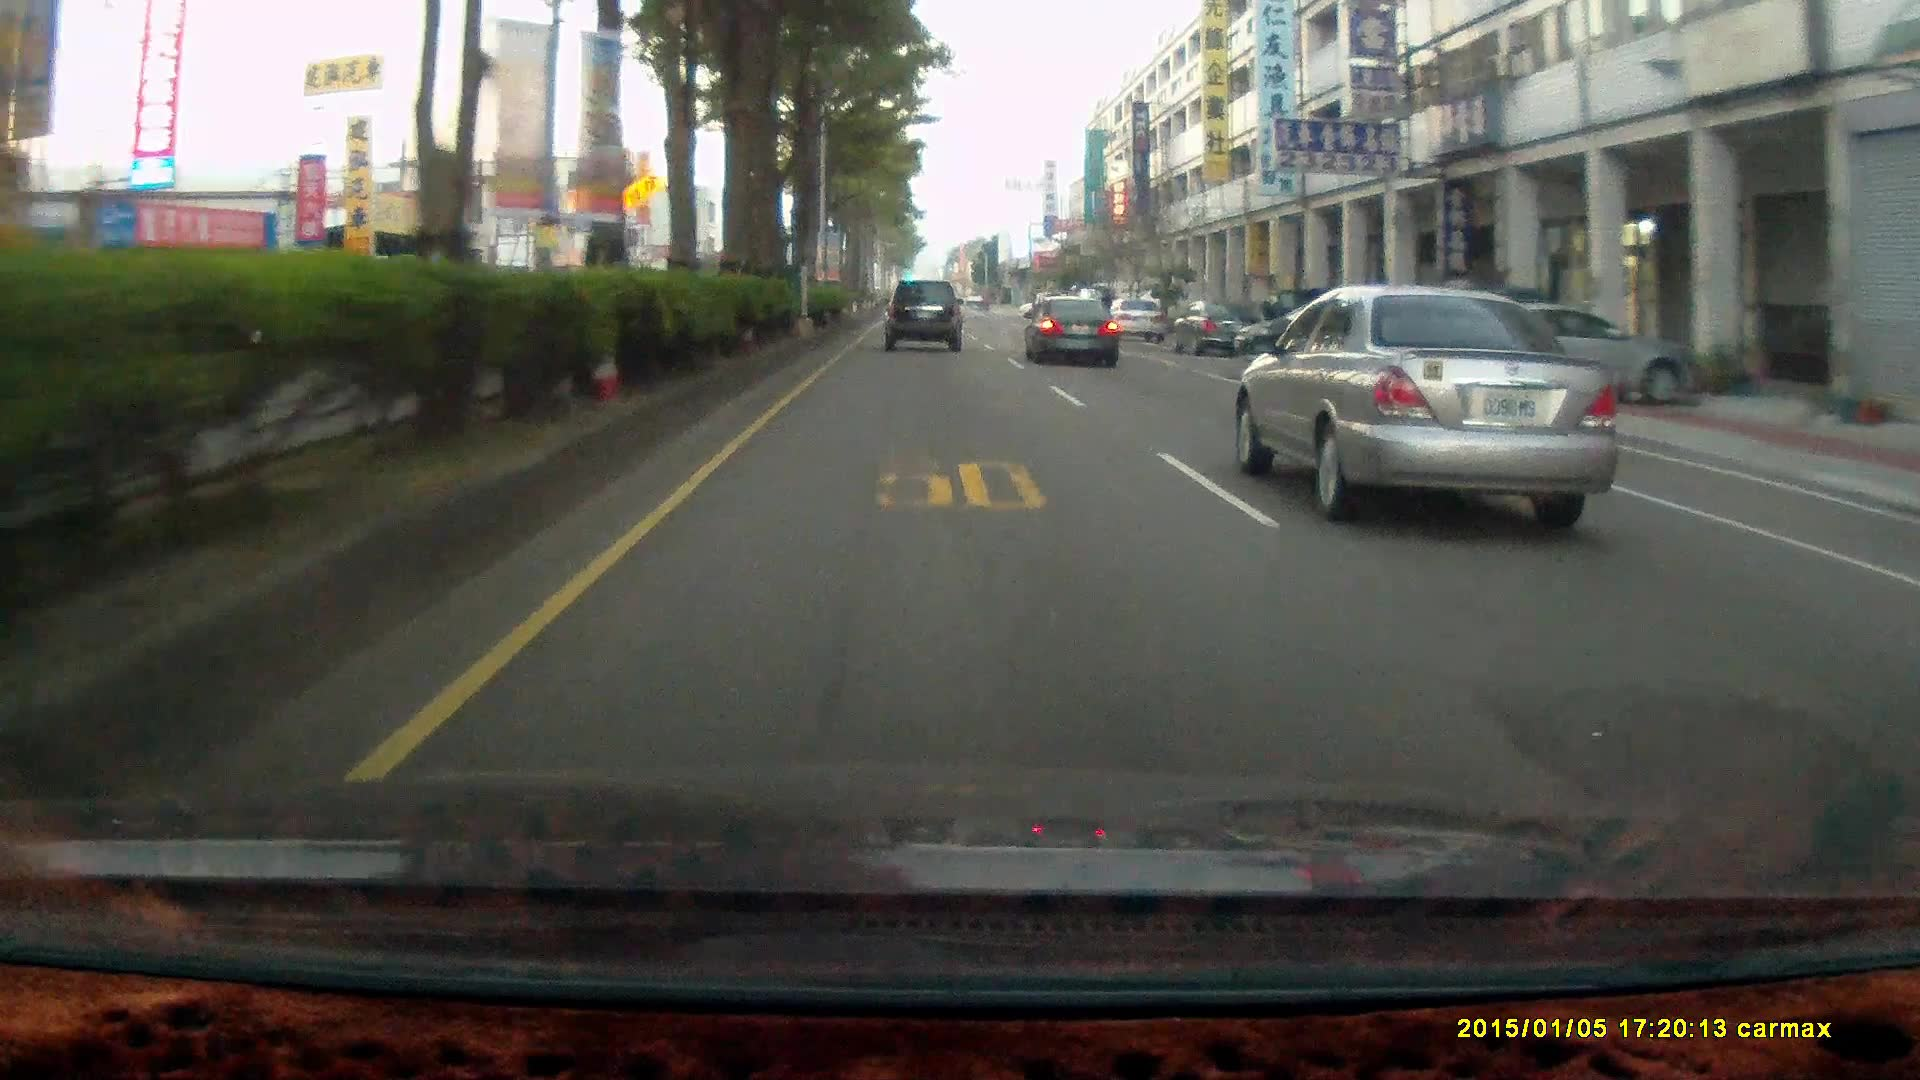vehicle: (1226, 286, 1635, 529), (1425, 301, 1708, 410), (1425, 299, 1706, 407), (1026, 293, 1125, 365), (1021, 294, 1116, 368), (886, 280, 967, 357), (881, 280, 964, 349), (1167, 297, 1255, 355), (1106, 295, 1164, 345), (1105, 294, 1164, 343)
